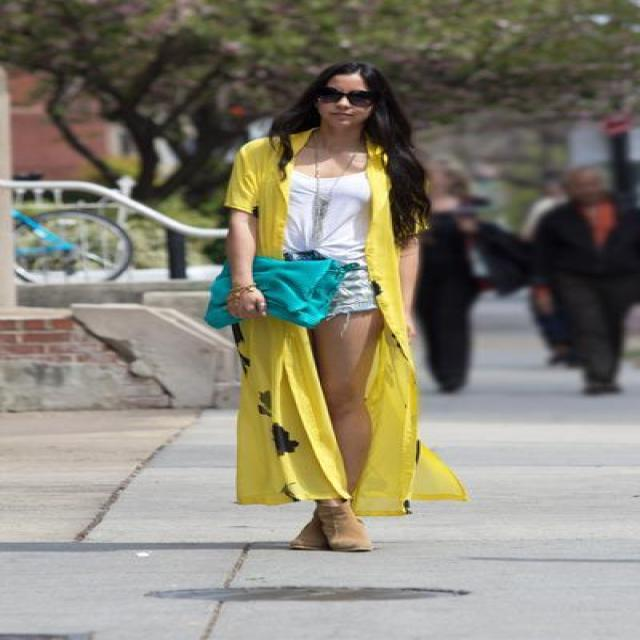bag: (204, 250, 350, 328)
jacket: (226, 130, 464, 524)
shirt: (282, 152, 363, 266)
shoe: (288, 499, 370, 552)
shorts: (334, 270, 374, 309)
sunglass: (302, 67, 365, 106)
